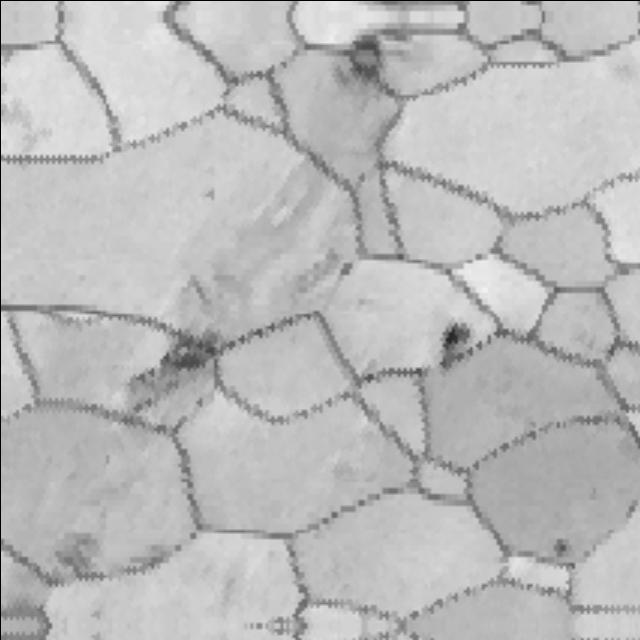good_void: (123, 339, 214, 417), (340, 29, 390, 82), (54, 530, 106, 578), (436, 319, 471, 361), (197, 177, 221, 204), (334, 248, 352, 282), (550, 534, 574, 556)
